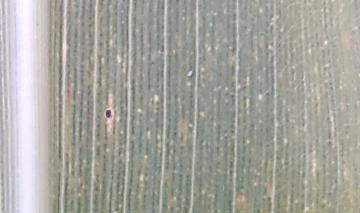tarspot: (103, 106, 113, 120)
